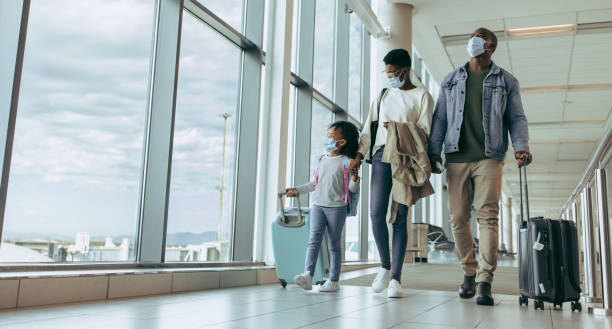with mask: (320, 121, 352, 159), (380, 51, 412, 89), (464, 25, 496, 63)
